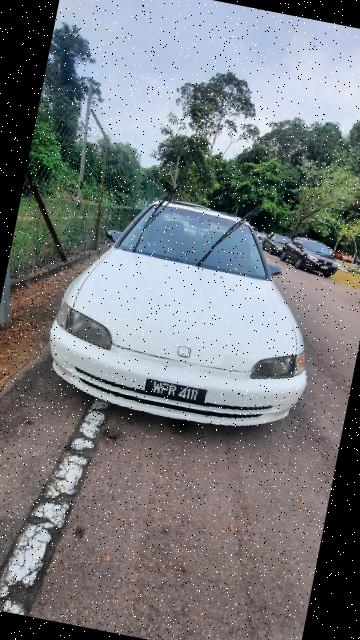License_Plate: (141, 374, 212, 411)
car: (38, 177, 338, 450)
